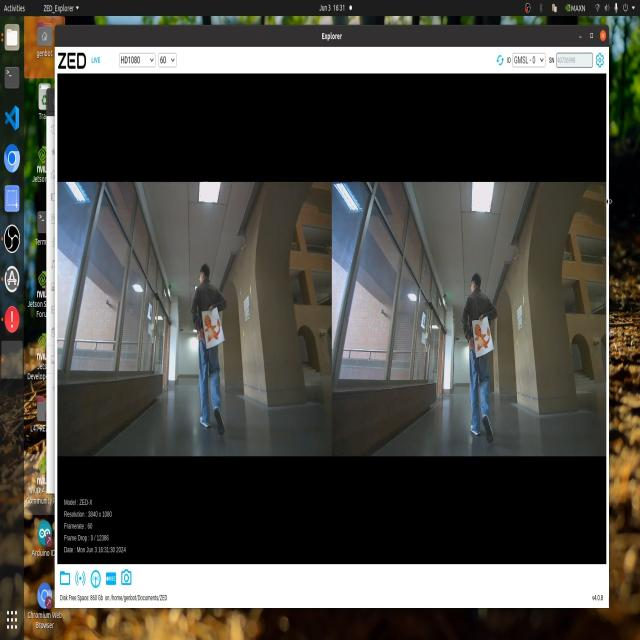red: (203, 302, 229, 346), (465, 319, 495, 357)
